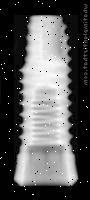Hiossen: (14, 15, 78, 186)
